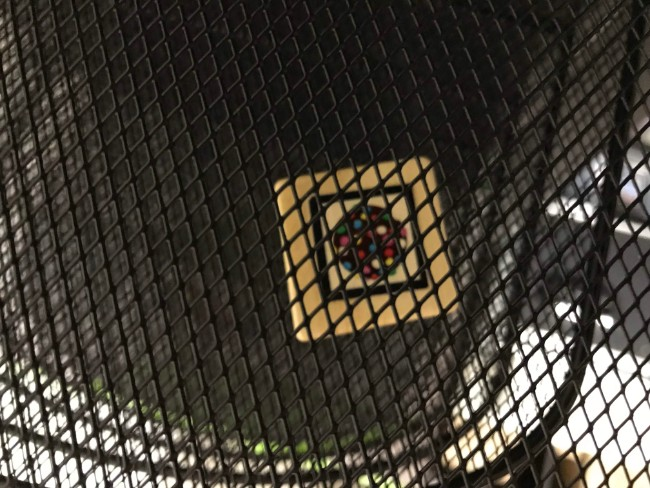cookie: (272, 157, 462, 339)
